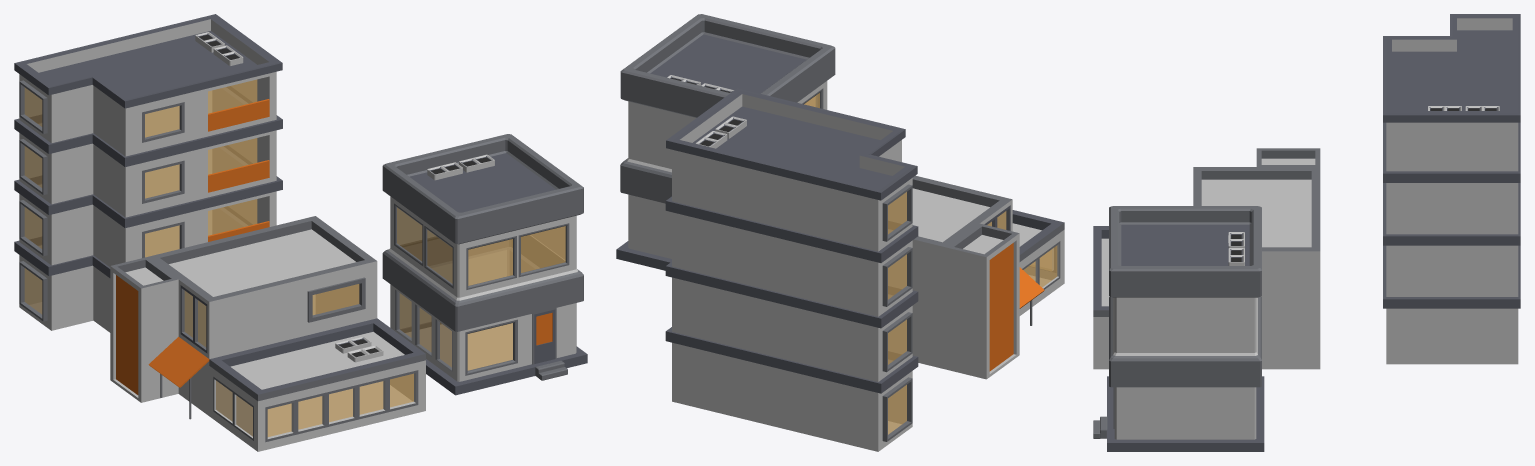
Rendered from ResidenceModel.fbx.
3 views of the same model, side by side, from view 1: azimuth 30°, elevation 25°; view 2: azimuth 150°, elevation 25°; view 3: azimuth 270°, elevation 25° (orthographic). The views are drawn at different scales.
Parts seen in each view (by area): view 1: Cube.004; view 2: Cube.004; view 3: Cube.004.
Part boxes in pixels (box(x1,y1,x2,y2)): Cube.004: box(14, 14, 587, 451); Cube.004: box(616, 14, 1064, 451); Cube.004: box(1093, 14, 1520, 451).
Size of the model in its own units: 3.02 by 1.89 by 2.9.
